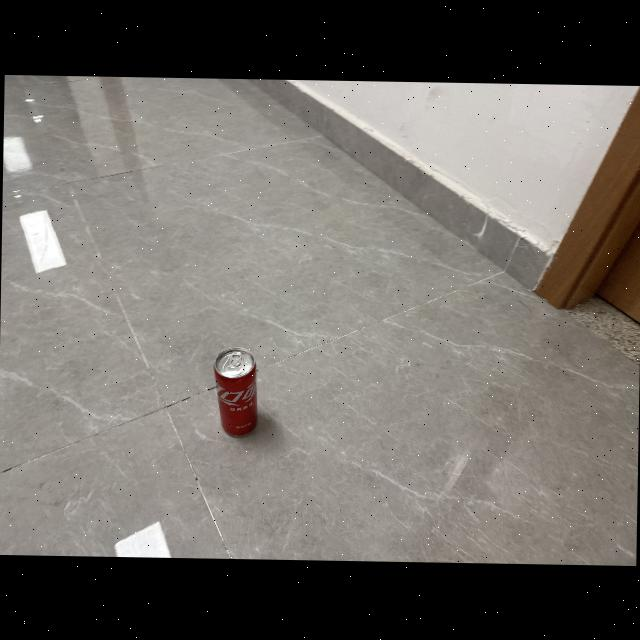Cola: (210, 344, 264, 443)
